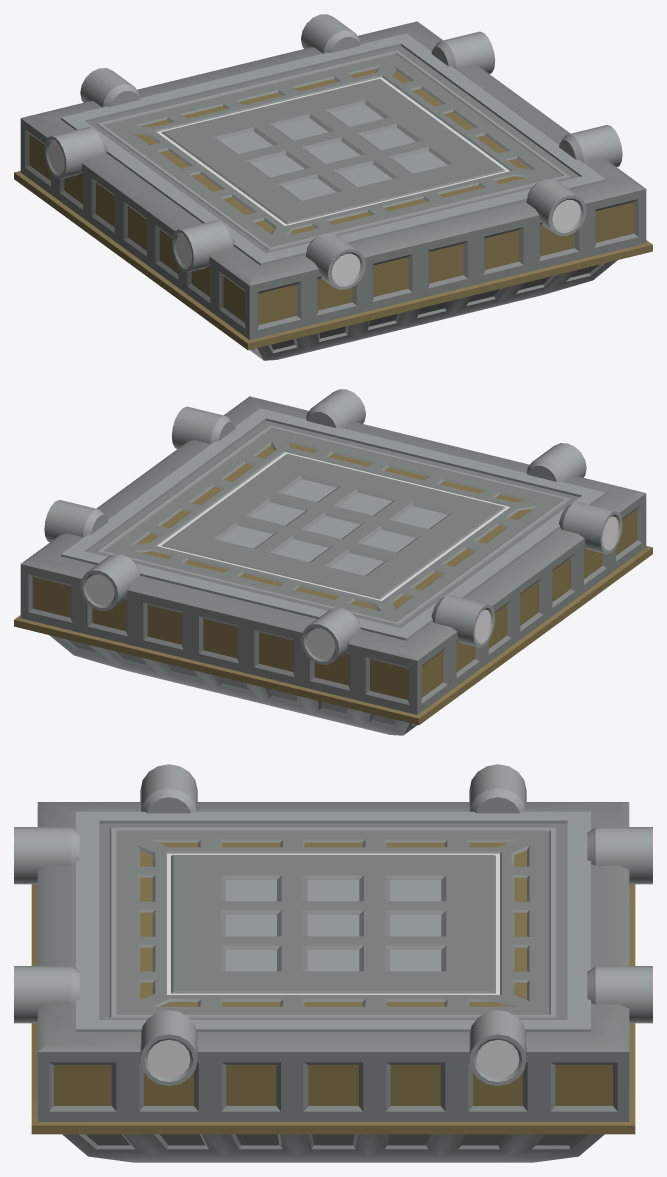
The model's file is Platform1.fbx.
The picture shows the model from 3 angles, top to bottom: view 1: azimuth 30°, elevation 25°; view 2: azimuth 150°, elevation 25°; view 3: azimuth 270°, elevation 25°; orthographic projection. The views are drawn at different scales.
Parts seen in each view (by area): view 1: Platform; view 2: Platform; view 3: Platform.
Boxes of the visible parts, left/top/right/bottom form: Platform: left=14, top=14, right=652, bottom=360; Platform: left=14, top=389, right=652, bottom=735; Platform: left=14, top=764, right=652, bottom=1162.
Bounding box in the file's own units: 223 × 69.25 × 223.
